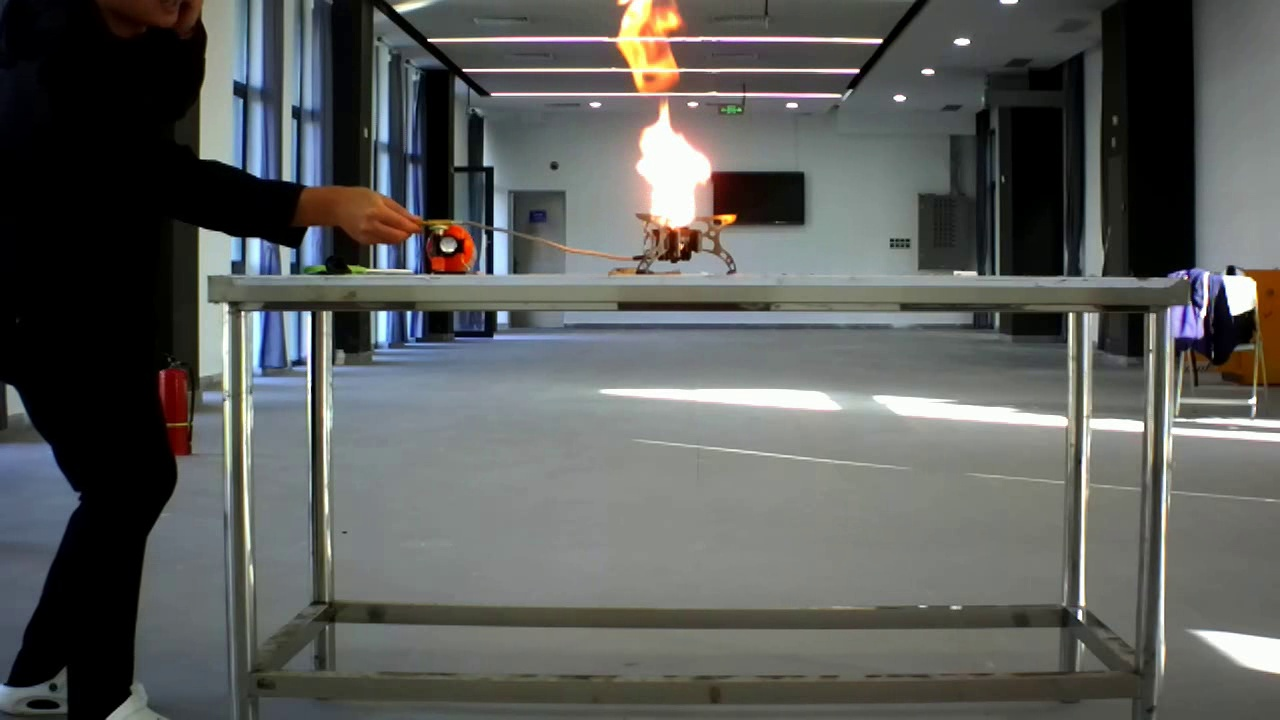Fire: (604, 0, 743, 264)
